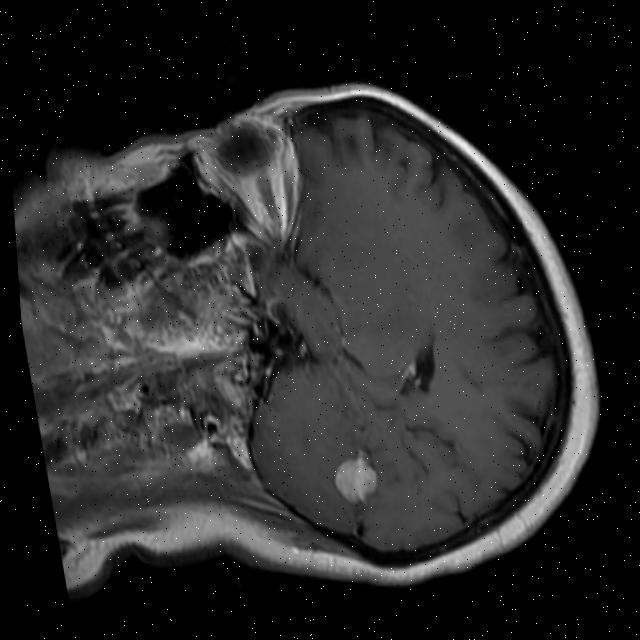Meningioma: (327, 445, 385, 507)
